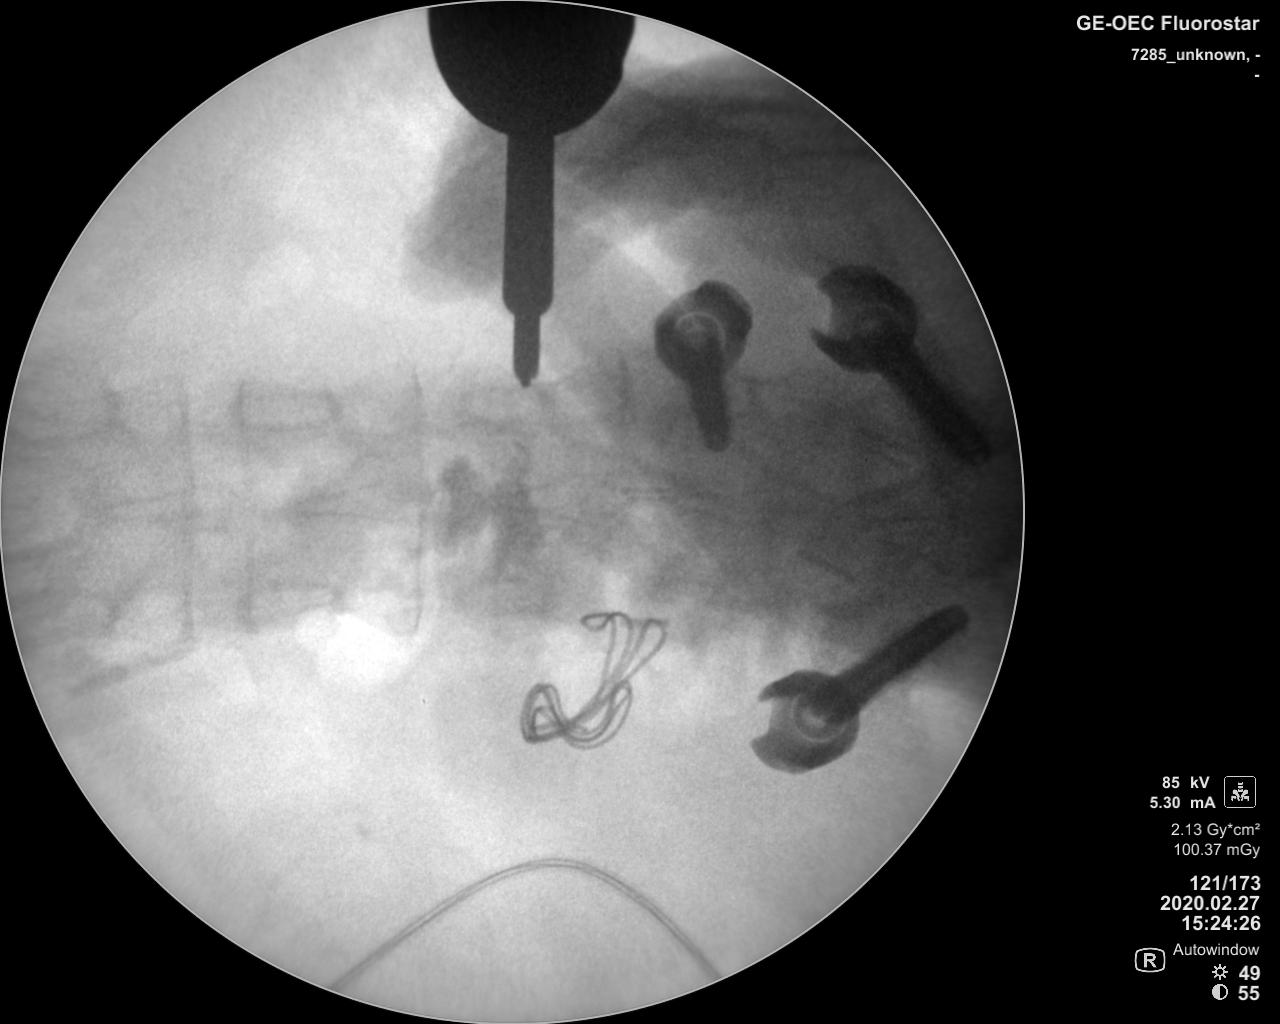eyes: (11, 376, 116, 445), (230, 377, 345, 434), (16, 588, 114, 643), (239, 579, 335, 629), (459, 382, 553, 432), (457, 572, 546, 616)
line: (167, 363, 201, 659), (404, 366, 430, 653)
nose: (284, 471, 442, 534), (91, 481, 240, 535), (487, 474, 629, 529)
